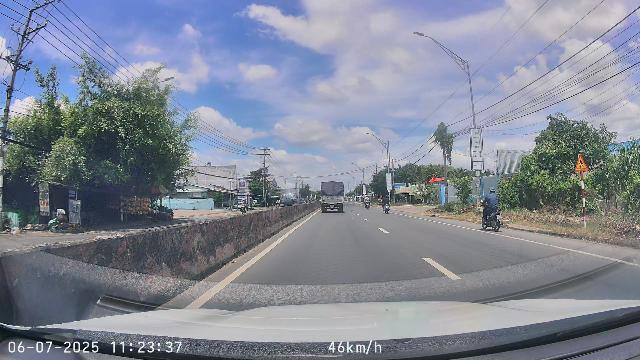224-duong-nguoi-di-bo-cat-ngang: (575, 155, 589, 172)
